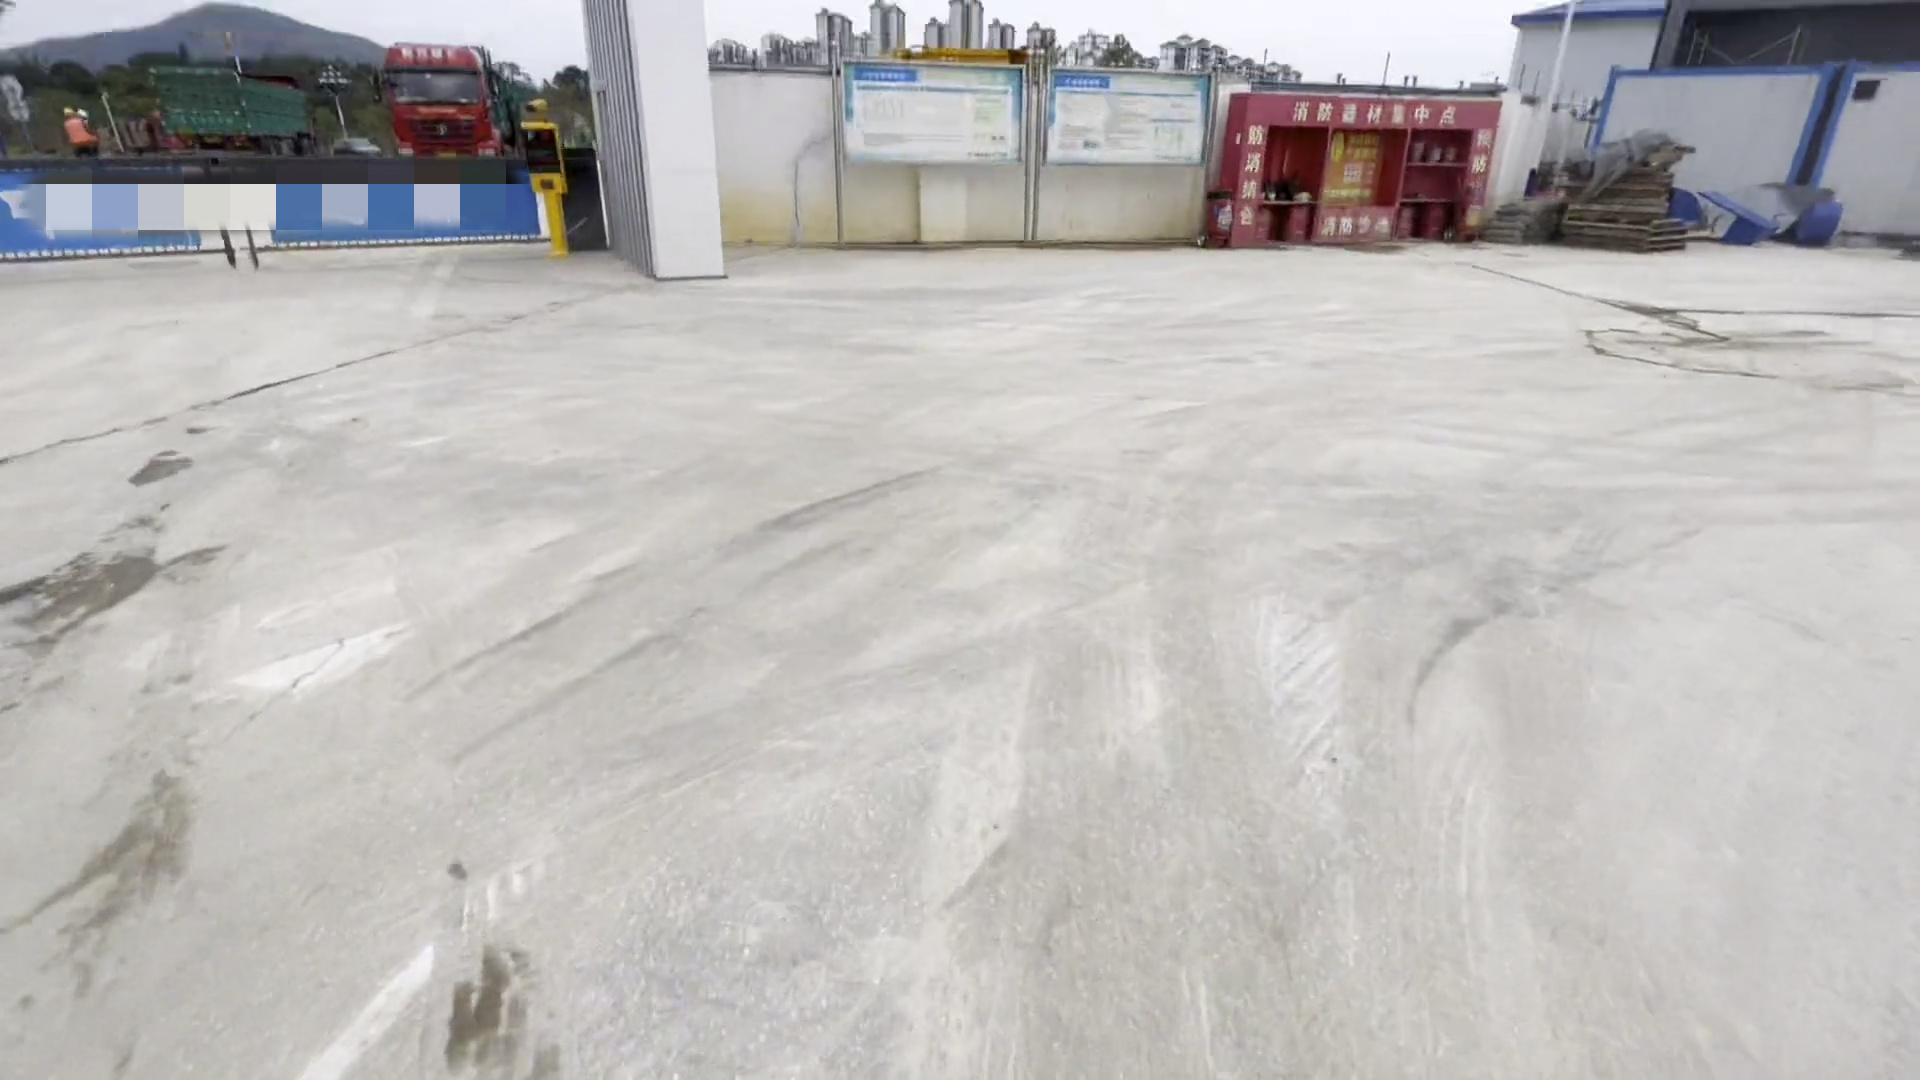person: (58, 102, 104, 161)
